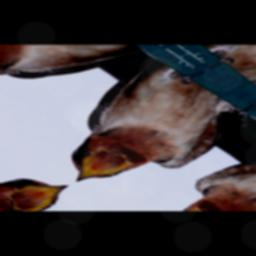Swallow: (1, 50, 256, 203)
